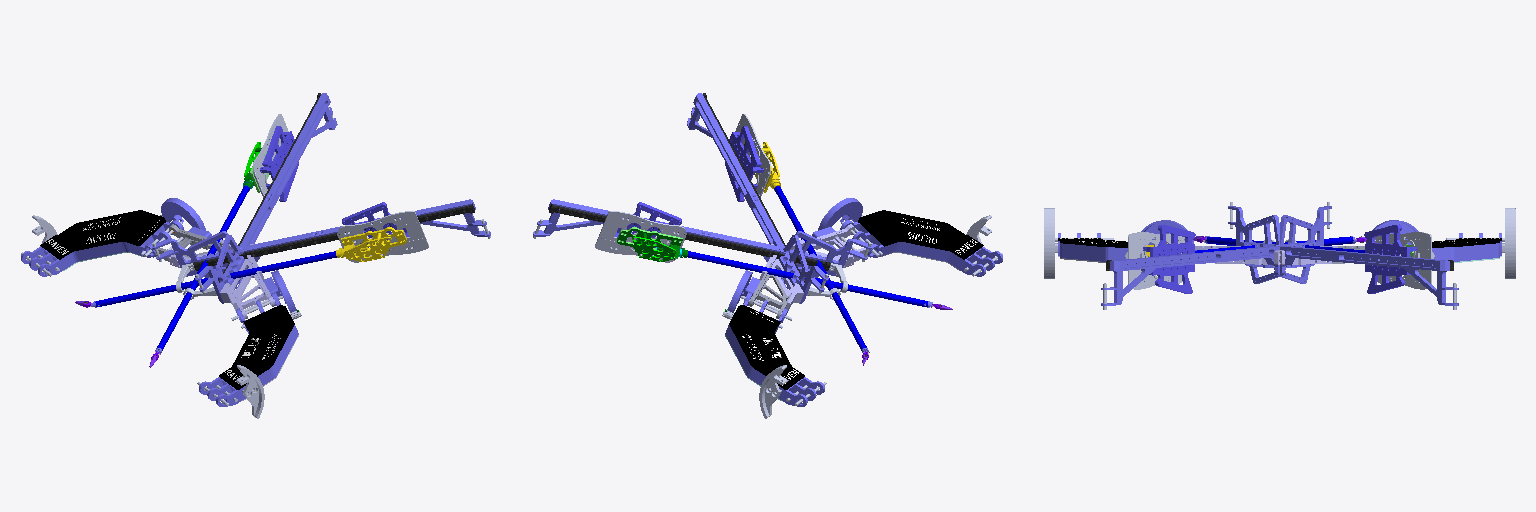
robot.urdf — raven_2:
<?xml version="1.0"?>
<!--RavenII Surgical Robot 2-Arm urdf File -->
<!--Author: Sina Nia Kosari & Lee White-->
<[email redacted] & leewhite@uw.edu-->
<!--Date: 01-Dec-2011 -->
<!--Biorobotics Laboratory -->
<!--University of Washington -->

<robot name="raven_2">

  <link name="world">
   <visual>
     <origin xyz="0 0 0" rpy="0 0 0" />
     <geometry>
       <box size=".001 .001 .001" />
     </geometry>
     <material name="Cyan">
       <color rgba="0 255 255 1.0"/>
     </material>
   </visual>
  </link>

  <joint name="world_to_0_link" type="fixed">
    <limit effort="1000.0" lower="0.0" upper="3.1415" velocity="0.5"/>
    <origin rpy="0 0 1.5707963267948966" xyz="0.0 0.00 0"/>
    <parent link="world"/>
    <child link="0_link"/>
  </joint>

  <link name="0_link">
   <visual>
     <origin xyz="0 0 0" rpy="0 0 0" />
     <geometry>
       <box size=".001 .001 .001" />
     </geometry>
     <material name="Cyan">
       <color rgba="0 255 255 1.0"/>
     </material>
   </visual>
  </link>

  <!-- LEFT ARM LINKS -->
  <link name="base_link_L">
    <!--visual>
      <geometry>
        <mesh filename="package://raven_2_params/data/left_arm/base_w_motors.dae"/>
      </geometry>
      <origin xyz="0 0 0" rpy="0 0 1.57075"/>
    </visual-->
  </link>
  <link name="link1_L">
    <visual>
      <geometry>
        <mesh filename="package://raven_2_params/data/left_arm/link1_w_cover.dae"/>
      </geometry>
      <!--<origin xyz="0 0 0" rpy="-1.2032 1.57075 -1.57075"/>--> <!-- roll is -pi/2 + 0.3676 [atan(0.3471/0.9014)] -->
      <origin xyz="0 0 0" rpy="0 1.5705 -0.36751734624250643"/> <!-- yaw is -atan(0.3471/0.9014) -->
    </visual>
  </link>

  <link name="link2_L">
    <visual>
      <geometry>
        <mesh filename="package://raven_2_params/data/left_arm/link2.dae"/>
      </geometry>
      <origin xyz="0 0 0" rpy="1.9382395030381792 0.26209318989244951 1.5705100123309776"/>
      <!--origin xyz="0 0 0" rpy="1.93836 0.26180 1.57075"/--> <!-- <origin xyz="0 0 0" rpy="1.30800 0 0"/> -->
    </visual>
  </link>

  <link name="link3_L">
    <visual>
      <geometry>
        <mesh filename="package://raven_2_params/data/left_arm/link3.dae"/>
      </geometry>
      <origin rpy="1.9385216811679049 -0.64486672178728399 1.5704503011280697" xyz="0 0 0"/>
    </visual>
  </link>

  <link name="instrument_shaft_L">
    <visual>
      <geometry>
        <mesh filename="package://raven_2_params/data/left_arm/instrument_shaft.dae"/>
      </geometry>
      <origin rpy="1.9385216811679049 -0.64486672178728399 1.5704503011280697" xyz="0 0 0"/>
    </visual>
  </link>

  <link name="wrist_L">
    <visual>
      <geometry>
        <mesh filename="package://raven_2_params/data/left_arm/wrist.dae"/>
      </geometry>
      <origin xyz="0 0 0" rpy="0.90864182988948561 0.60032410882593512 -0.75472267005191318"/> <!-- <origin xyz="0 0 0" rpy="1.93833 0.90753 0"/> -->
    </visual>
  </link>

  <link name="grasper1_L">
    <visual>
      <geometry>
        <mesh filename="package://raven_2_params/data/left_arm/grasper_1.dae"/>
      </geometry>
    <origin rpy="-0.17380227661240275 -0.60079813692467054 -0.75437730271855163" xyz="-0.0120 0 0"/>
    </visual>
  </link>

  <link name="grasper2_L">
    <visual>
      <geometry>
        <mesh filename="package://raven_2_params/data/left_arm/grasper_2.dae"/>
      </geometry>
    <origin rpy="-0.17380227661240275 -0.60079813692467054 -0.75437730271855163" xyz="-0.0120 0 0"/>
    </visual>
  </link>

  <link name="tool_L">
  </link>


 <!-- RIGHT ARM LINKS -->
 <link name="base_link_R">
    <!--visual>
      <geometry>
        <mesh filename="package://raven_2_params/data/right_arm/base_w_motors.dae"/>
      </geometry>
    <origin xyz="0 -1 0" rpy="0 0 -1.5708889782384681"/>
    </visual-->
  </link>

  <link name="link1_R">
    <visual>
      <geometry>
        <mesh filename="package://raven_2_params/data/right_arm/link1_w_cover.dae"/>
      </geometry>
    <origin xyz="0 0 1" rpy="2.0343327502434696 -1.570692737892182 1.4746886982867402"/>
    </visual>
  </link>

  <link name="link2_R">
    <visual>
      <geometry>
        <mesh filename="package://raven_2_params/data/right_arm/link2.dae"/>
      </geometry>
    <origin xyz="0 0.96590402193369951 0.2589004061671063" rpy="1.9382277866578941 -0.26188361992198378 1.5707860355398915"/>
    </visual>
  </link>

  <link name="link3_R">
    <visual>
      <geometry>
        <mesh filename="package://raven_2_params/data/right_arm/link3.dae"/>
      </geometry>
    <origin xyz="0 0.79905387464137156 -0.60125943262605086" rpy="1.9382176424793203 0.64507633072364345 1.5707838866266983"/>
    </visual>
  </link>

  <link name="instrument_shaft_R">
    <visual>
      <geometry>
        <mesh filename="package://raven_2_params/data/right_arm/instrument_shaft.dae"/>
      </geometry>
    <origin xyz="0 0.79905387464137156 -0.60125943262605086" rpy="1.9382176424793203 0.64507633072364345 1.5707838866266983"/>
    </visual>
  </link>

  <link name="wrist_R">
    <visual>
      <geometry>
        <mesh filename="package://raven_2_params/data/right_arm/wrist.dae"/>
      </geometry>
    <origin xyz="-0.60125943262605086 -0.5650093843930829 0.56502344219151568" rpy="0.90877734233389373 -0.60046166550392155 -2.3872665559136799"/>
    </visual>
  </link>

  <link name="grasper1_R">
    <visual>
      <geometry>
        <mesh filename="package://raven_2_params/data/right_arm/grasper_1.dae"/>
      </geometry>
    <!--origin rpy="0 0 0" xyz="1.00680 -0.00904 0.00452"/-->
    <origin xyz="-0.6132594326260508  -9.940364600457567e-06  -0.7990538746413716" rpy="-1.2033543209266322  0.9257199959684191  -3.141576121018227"/>
    </visual>
  </link>

  <link name="grasper2_R">
    <visual>
      <geometry>
        <mesh filename="package://raven_2_params/data/right_arm/grasper_2.dae"/>
      </geometry>
    <origin xyz="-0.6132594326260508  9.940364600359764e-06  0.7990538746413716" rpy="1.938238332663161  -0.9257199959684191  3.1415761210182276"/>
    </visual>
  </link>

  <link name="tool_R">
  </link>

  <!-- LEFT ARM JOINTS -->

  <joint name="camera_L" type="fixed">
    <limit effort="1000.0" lower="0.0" upper="3.1415" velocity="0.5"/>
    <origin rpy="0 0 -1.5707963267948966" xyz="0.0 0.00 0"/> <!-- berkeley's ravens are mounted without the tilt -->
    <!-- <origin rpy="-1.5707963267948966 -2.0071286 1.5707963267948966" xyz="0.0 0.00 0"/> -->
    <parent link="0_link"/>
    <child link="base_link_L"/>
  </joint>

  <joint name="shoulder_L" type="revolute">
    <axis xyz="0 0 1" />
    <limit effort="1000.0" lower="-3.1415" upper="3.1415" velocity="0.5"/>
    <origin rpy="1.5707963267948966 -1.9383641042662245 0" xyz="0.0 0.0 0"/> <!-- pitch is -pi/2 - 0.3676 [atan(0.3471/0.9014)] -->
    <parent link="base_link_L"/>
    <child link="link1_L"/>
  </joint>

  <joint name="elbow_L" type="revolute">
    <axis xyz="0 0 1"/>
    <limit effort="1000.0" lower="-3.1415" upper="3.1415" velocity="0.5"/>
    <origin rpy="-1.3088095959974027 0 0" xyz="0.0 0.0 0" />
    <parent link="link1_L"/>
    <child link="link2_L"/>
  </joint>

  <joint name="insertion_L" type="prismatic">
    <axis xyz="0 0 -1"/>
    <limit effort="1000.0" lower="-.17" upper=".1" velocity="0.5"/>
    <origin rpy="-0.90695995069604551 0 0" xyz="0 0 0"/>
    <parent link="link2_L"/>
    <child link="link3_L"/>
  </joint>

  <joint name="tool_roll_L" type="revolute">
    <axis xyz="0 0 -1"/>
    <limit effort="1000.0" lower="-3.1415" upper="3.1415" velocity="0.5"/>
    <origin rpy="0 0 0" xyz="0 0 0"/>
    <parent link="link3_L"/>
    <child link="instrument_shaft_L"/>
  </joint>

  <joint name="wrist_joint_L" type="revolute">
    <axis xyz="0 0 1"/>
    <limit effort="1000.0" lower="-2" upper="2" velocity="0.5"/>
    <!-- origin rpy="0.78539816339744828 -1.5707963267948966 1.5707963267948966" xyz="0 0 0"/ --> <!-- roll is pi/2 offset by -pi/4 -->
    <origin rpy="-1.5707963267948966 -1.0471975511965979 1.5707963267948966" xyz="0 0 0"/> <!-- roll is -pi/2, pitch accounts for wrist angle at home position (approx +pi/6 at 0 joint angle) -->
    <parent link="instrument_shaft_L"/>
    <child link="wrist_L"/>
  </joint>

  <joint name="grasper_joint_1_L" type="revolute">
    <axis xyz="0 0 -1"/>
    <limit effort="1000.0" lower="-2" upper="2" velocity=".5"/>
    <origin rpy="1.5707963267948966 0 0" xyz="0.012 0 0"/>
    <parent link="wrist_L"/>
    <child link="grasper1_L"/>
  </joint>


  <joint name="grasper_joint_2_L" type="revolute">
    <axis xyz="0 0 1"/>
    <limit effort="1000.0" lower="-2" upper="2" velocity=".5"/>
    <origin rpy="1.5707963267948966 0 0" xyz="0.012 0 0"/>
    <parent link="wrist_L"/>
    <child link="grasper2_L"/>
  </joint>

  <joint name="grasper_yaw_L" type="revolute">
    <axis xyz="0 0 1"/>
    <limit effort="1000.0" lower="-2" upper="2" velocity=".5"/>
    <origin rpy="-1.5707963267948966 0 0" xyz="0.012 0 0"/>
    <parent link="wrist_L"/>
    <child link="tool_L"/>
  </joint>


  <!-- RIGHT ARM JOINTS -->
  <joint name="camera_R" type="fixed">
    
    <limit effort="1000.0" lower="0.0" upper="3.1415" velocity="0.5"/>
    <origin rpy="0 0 1.5707963267948966" xyz="-.2 0 0"/> <!-- berkeley's ravens are mounted without the tilt -->
    <!-- <origin rpy=" 1.57075 -2.0071286 1.57075" xyz="-.2 0.00 0"/> -->
    <parent link="0_link"/>
    <child link="base_link_R"/>
  </joint>

  <joint name="shoulder_R" type="revolute">
    <axis xyz="0 0 -1"/>
    <limit effort="1000.0" lower="-3.1415" upper="3.1415" velocity="0.5"/>
    <origin rpy="1.5707963267948966 -1.2032285493235686 0" xyz="0 0.0 0"/> <!-- pitch is -pi/2 + 0.3676 [atan(0.3471/0.9014)] -->
    <parent link="base_link_R"/>
    <child link="link1_R"/>
  </joint>

  <joint name="elbow_R" type="revolute">
    <axis xyz="0 0 -1"/>
    <limit effort="1000.0" lower="-3.1415" upper="3.1415" velocity="0.5"/>
    <origin rpy="1.3088095959974027 0 0" xyz="0.0 0.0 0"/>
    <parent link="link1_R"/>
    <child link="link2_R"/>
  </joint>

  <joint name="insertion_R" type="prismatic">
    <axis xyz="0 0 -1"/>
    <limit effort="1000.0" lower="-.17" upper=".1" velocity="0.5"/>
    <origin rpy="0.90695995069604551 0 0" xyz="0 0 0"/>
    <parent link="link2_R"/>
    <child link="link3_R"/>
  </joint>

  <joint name="tool_roll_R" type="revolute">
    <axis xyz="0 0 1"/>
    <limit effort="1000.0" lower="-3.1415" upper="3.1415" velocity="0.5"/>
    <origin rpy="0 0 -0.37732519171346124" xyz="0 0 0"/>
    <parent link="link3_R"/>
    <child link="instrument_shaft_R"/>
  </joint>

  <joint name="wrist_joint_R" type="revolute">
    <axis xyz="0 0 1"/>
    <limit effort="1000.0" lower="-2" upper="2" velocity="0.5"/>
    <!--origin rpy="2.3561944901923448 -1.5707963267948966 1.5707963267948966" xyz="0 0 0"/-->  <!-- roll is pi/2 offset by +pi/4 -->
    <origin rpy="1.5707963267948966 -1.5707963267948966 1.5707963267948966" xyz="0 0 0"/>  <!-- roll is pi/2 -->
    <parent link="instrument_shaft_R"/>
    <child link="wrist_R"/>
  </joint>

  <joint name="grasper_joint_1_R" type="revolute">
    <axis xyz="0 0 1"/>
    <limit effort="1000.0" lower="-2" upper="2" velocity=".5"/>
    <origin rpy="-1.5707963267948966 0 0" xyz="0.012 0 0"/>
    <parent link="wrist_R"/>
    <child link="grasper1_R"/>
  </joint>

  <joint name="grasper_joint_2_R" type="revolute">
    <axis xyz="0 0 1"/>
    <limit effort="1000.0" lower="-2" upper="2" velocity=".5"/>
    <origin rpy="1.5707963267948966 0 0" xyz="0.012 0 0"/>
    <parent link="wrist_R"/>
    <child link="grasper2_R"/>
  </joint>

  <joint name="grasper_yaw_R" type="revolute">
    <axis xyz="0 0 1"/>
    <limit effort="1000.0" lower="-2" upper="2" velocity=".5"/>
    <origin rpy="-1.5707963267948966 0 0" xyz="0.012 0 0"/>
    <parent link="wrist_R"/>
    <child link="tool_R"/>
  </joint>
<!--
rostopic pub -1 /joint_states sensor_msgs/JointState

'{name: ["shoulder_L", "elbow_L", "insertion_L", "tool_roll_L", "wrist_joint_L", "grasper_joint_1_L", "grasper_joint_2_L"], position: [0.51569,1.62748,0.05,-0.821,-0.031,0.958,0.958]}'
-->


</robot>

--- What the picture shows (computed from the rendered views, not written in the file) ---
Views: 3 orthographic renders of the robot side by side, from view 1: azimuth 30°, elevation 25°; view 2: azimuth 150°, elevation 25°; view 3: azimuth 270°, elevation 25°.
Model raven_2 with 20 links and 19 joints (14 revolute, 2 prismatic, 3 fixed), rooted at world, posed all joints at 0.
Visible links, largest first — view 1: link2_R, link2_L, link1_L, link1_R, link3_L, link3_R, instrument_shaft_L, instrument_shaft_R; view 2: link2_L, link2_R, link1_R, link1_L, link3_R, link3_L, instrument_shaft_R, instrument_shaft_L; view 3: link2_R, link2_L, link3_L, link3_R, link1_R, link1_L.
Link boxes in pixels (box(x1,y1,x2,y2)): link2_R: box(183, 93, 337, 318); link2_L: box(151, 198, 490, 292); link1_L: box(21, 210, 183, 276); link1_R: box(197, 292, 301, 418); link3_L: box(336, 202, 428, 262); link3_R: box(243, 114, 298, 201); instrument_shaft_L: box(91, 251, 336, 307); instrument_shaft_R: box(155, 186, 249, 354); link2_L: box(687, 93, 840, 318); link2_R: box(533, 198, 872, 292); link1_R: box(840, 210, 1002, 276); link1_L: box(722, 292, 826, 418); link3_R: box(595, 202, 687, 262); link3_L: box(725, 114, 780, 201); instrument_shaft_R: box(687, 251, 932, 307); instrument_shaft_L: box(774, 186, 869, 352); link2_R: box(1141, 202, 1458, 309); link2_L: box(1101, 202, 1418, 309); link3_L: box(1128, 225, 1195, 293); link3_R: box(1364, 224, 1431, 293); link1_R: box(1044, 208, 1166, 278); link1_L: box(1393, 208, 1515, 278).
Size in the robot's own frame: 0.5344 by 0.6382 by 0.2285 metres.
Meshes: 14 distinct files referenced, 14 mesh visuals loaded (14 Collada DAE).
